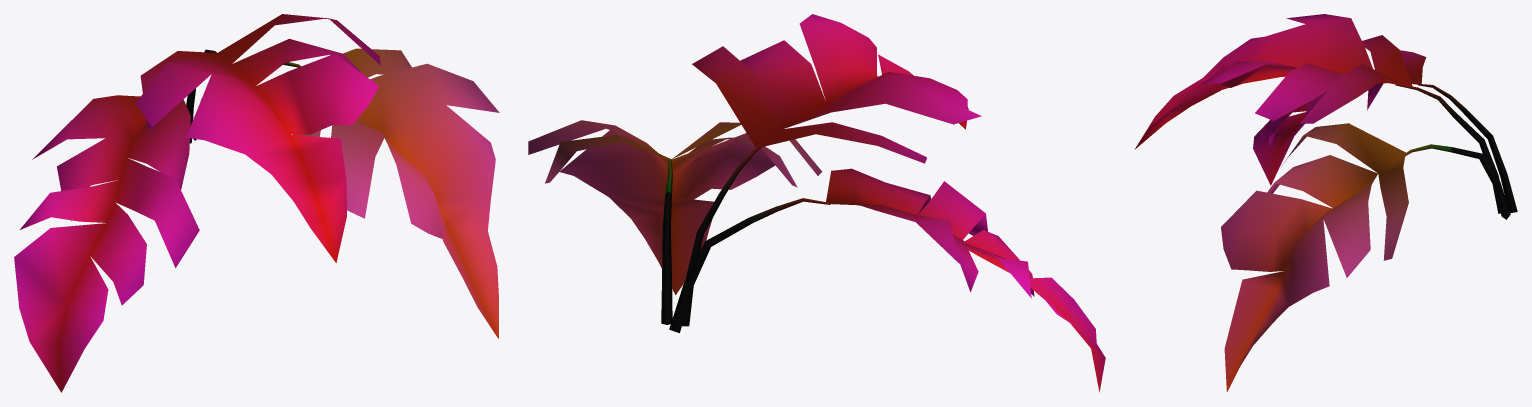
Rendered from SM_EagleFern_S_04.fbx.
3 views of the same model, side by side, from view 1: azimuth 30°, elevation 25°; view 2: azimuth 150°, elevation 25°; view 3: azimuth 270°, elevation 25° (orthographic). The views are drawn at different scales.
Parts seen in each view (by area): view 1: SM_EagleFern_S_04_LOD0; view 2: SM_EagleFern_S_04_LOD0; view 3: SM_EagleFern_S_04_LOD0.
Part boxes in pixels (x1,y1,x2,y2): SM_EagleFern_S_04_LOD0: (14,14,499,392); SM_EagleFern_S_04_LOD0: (528,14,1105,392); SM_EagleFern_S_04_LOD0: (1134,14,1517,391).
Bounding box in the file's own units: 72.64 × 53.86 × 41.86.
